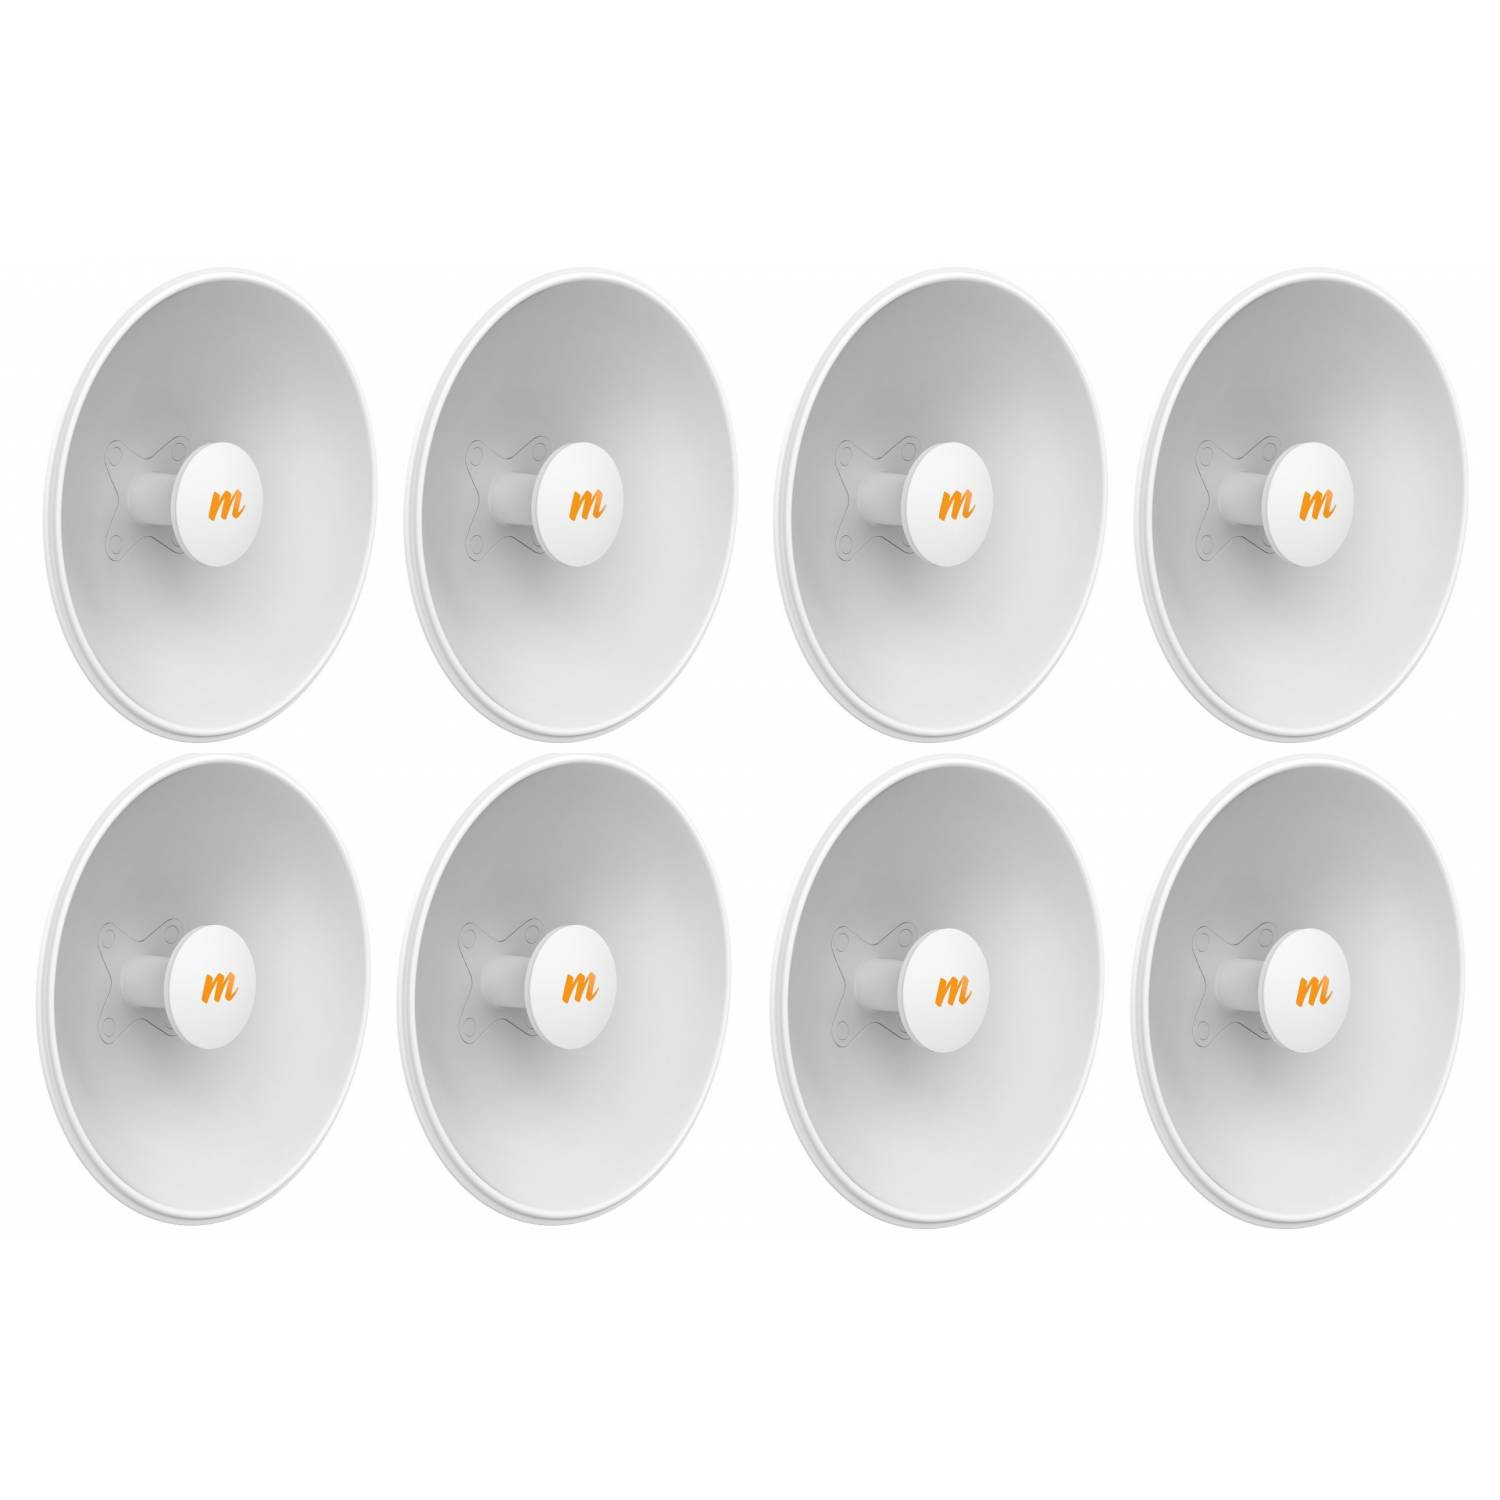ba: (65, 261, 397, 751)
